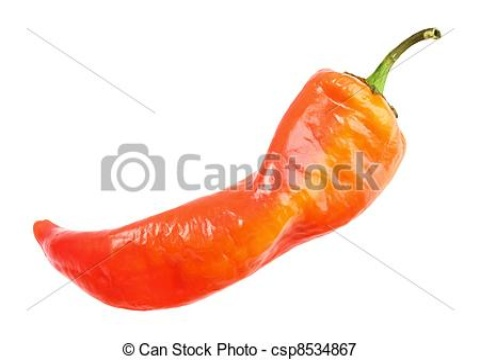Chilli: (22, 42, 431, 319)
